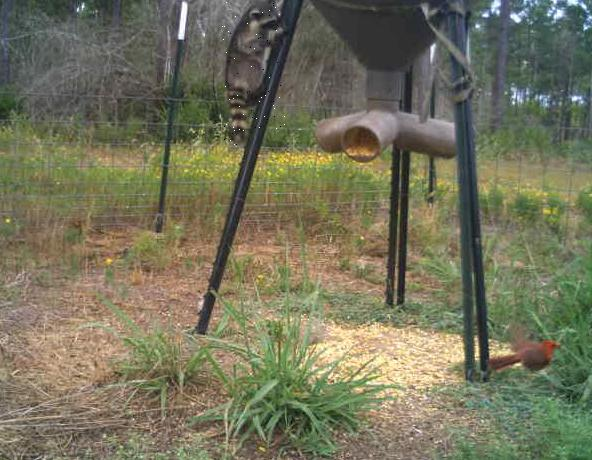Raccoon: (222, 0, 285, 145)
